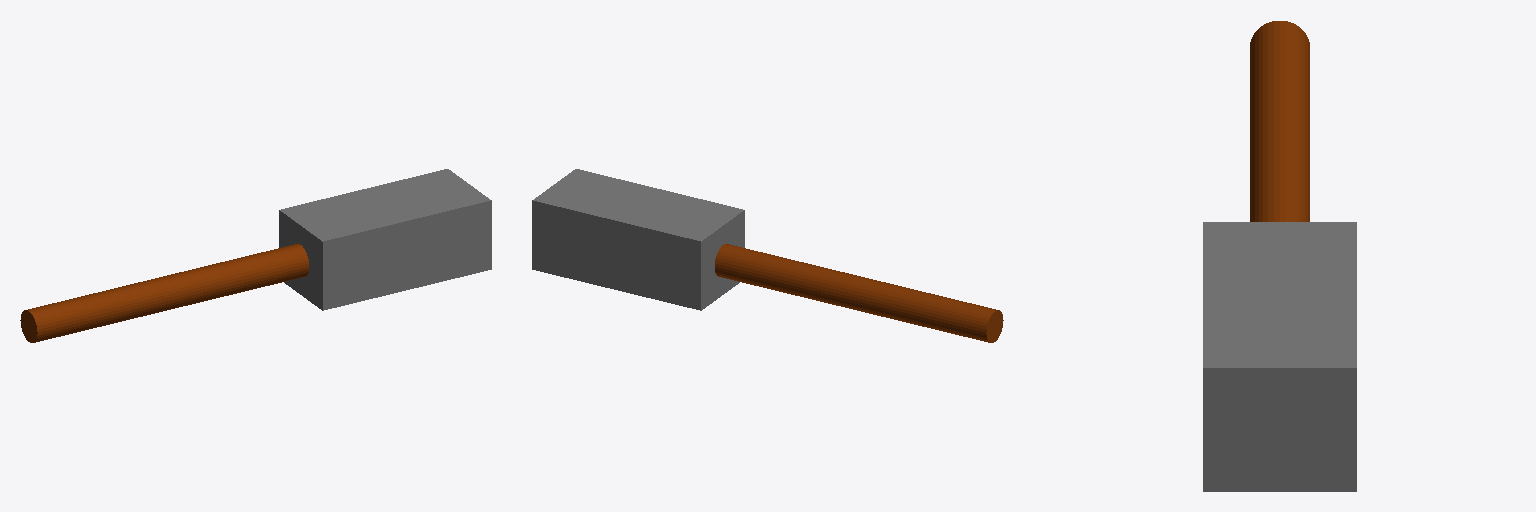
robot.urdf — handle_head:
<?xml version="1.0"?>
<robot name="handle_head">

  <link name="handle_head">
    <!-- Handle -->
    <visual>
              <origin xyz="0 0 0" rpy="0 -1.5707963267948966 0"/>
        <geometry>
          <cylinder length="0.1656948257416116" radius="0.00901077729913257"/>
        </geometry>
        
      <material name="brown">
        <color rgba="0.55 0.27 0.07 1.0"/>
      </material>
    </visual>
    <collision>
              <origin xyz="0 0 0" rpy="0 -1.5707963267948966 0"/>
        <geometry>
          <cylinder length="0.1656948257416116" radius="0.00901077729913257"/>
        </geometry>
        
    </collision>

    <!-- Head -->
    <visual>
              <origin xyz="0.13433661534853855 0 0" rpy="0 0 0"/>
        <geometry>
          <box size="0.10297840495546552 0.04586753019725913 0.040348205204258594"/>
        </geometry>
        
      <material name="gray">
        <color rgba="0.5 0.5 0.5 1.0"/>
      </material>
    </visual>
    <collision>
              <origin xyz="0.13433661534853855 0 0" rpy="0 0 0"/>
        <geometry>
          <box size="0.10297840495546552 0.04586753019725913 0.040348205204258594"/>
        </geometry>
        
    </collision>

    <inertial>
      <origin xyz="0.09974297649080388 0 0" rpy="0 0 0"/>
      <mass value="0.10543064242385577"/>
      <inertia ixx="2.5431353079696703e-05" iyy="0.0005156995214645203" izz="0.0005188036952945375" ixy="0" ixz="0" iyz="0"/>
    </inertial>
  </link>

</robot>

--- Render facts (derived) ---
Views: 3 orthographic renders of the robot side by side, from view 1: azimuth 30°, elevation 25°; view 2: azimuth 150°, elevation 25°; view 3: azimuth 270°, elevation 25°.
Model handle_head with 1 links and 0 joints (none), rooted at handle_head, posed all joints at 0.
Visible links, largest first — view 1: handle_head; view 2: handle_head; view 3: handle_head.
Link boxes in pixels (x1,y1,x2,y2): handle_head: (20, 169, 491, 342); handle_head: (532, 169, 1003, 342); handle_head: (1203, 21, 1356, 491).
Size in the robot's own frame: 0.2687 by 0.0459 by 0.0403 metres.
Geometry: primitives only (box / cylinder / sphere), no mesh files.
